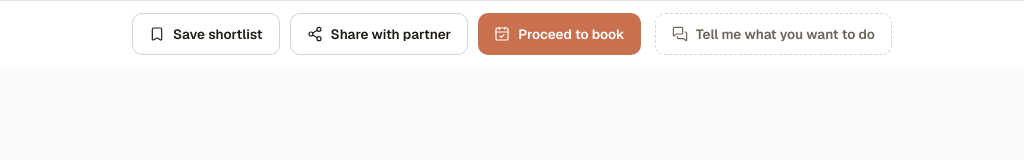
Test: ActionBar › shows the transient "Link copied" state when share succeeds
The image size is (1024, 160).
Click the button "Share with partner": (379, 34) [290, 13, 468, 55]
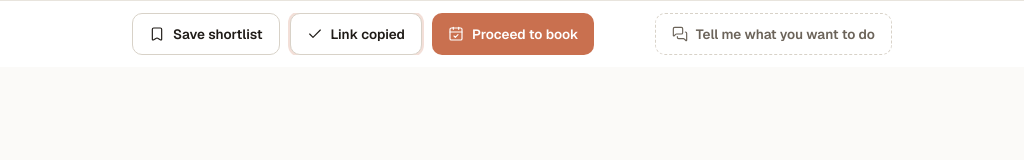
Now the button "Link copied" is shown, box [290, 13, 422, 55]
